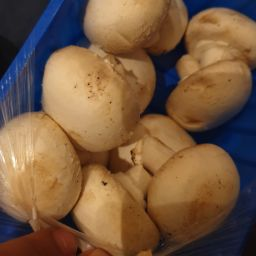Mushrooms: (126, 113, 241, 250), (37, 37, 154, 144), (144, 54, 256, 164), (2, 109, 87, 238), (80, 153, 175, 249), (76, 2, 187, 50), (187, 5, 256, 73)
